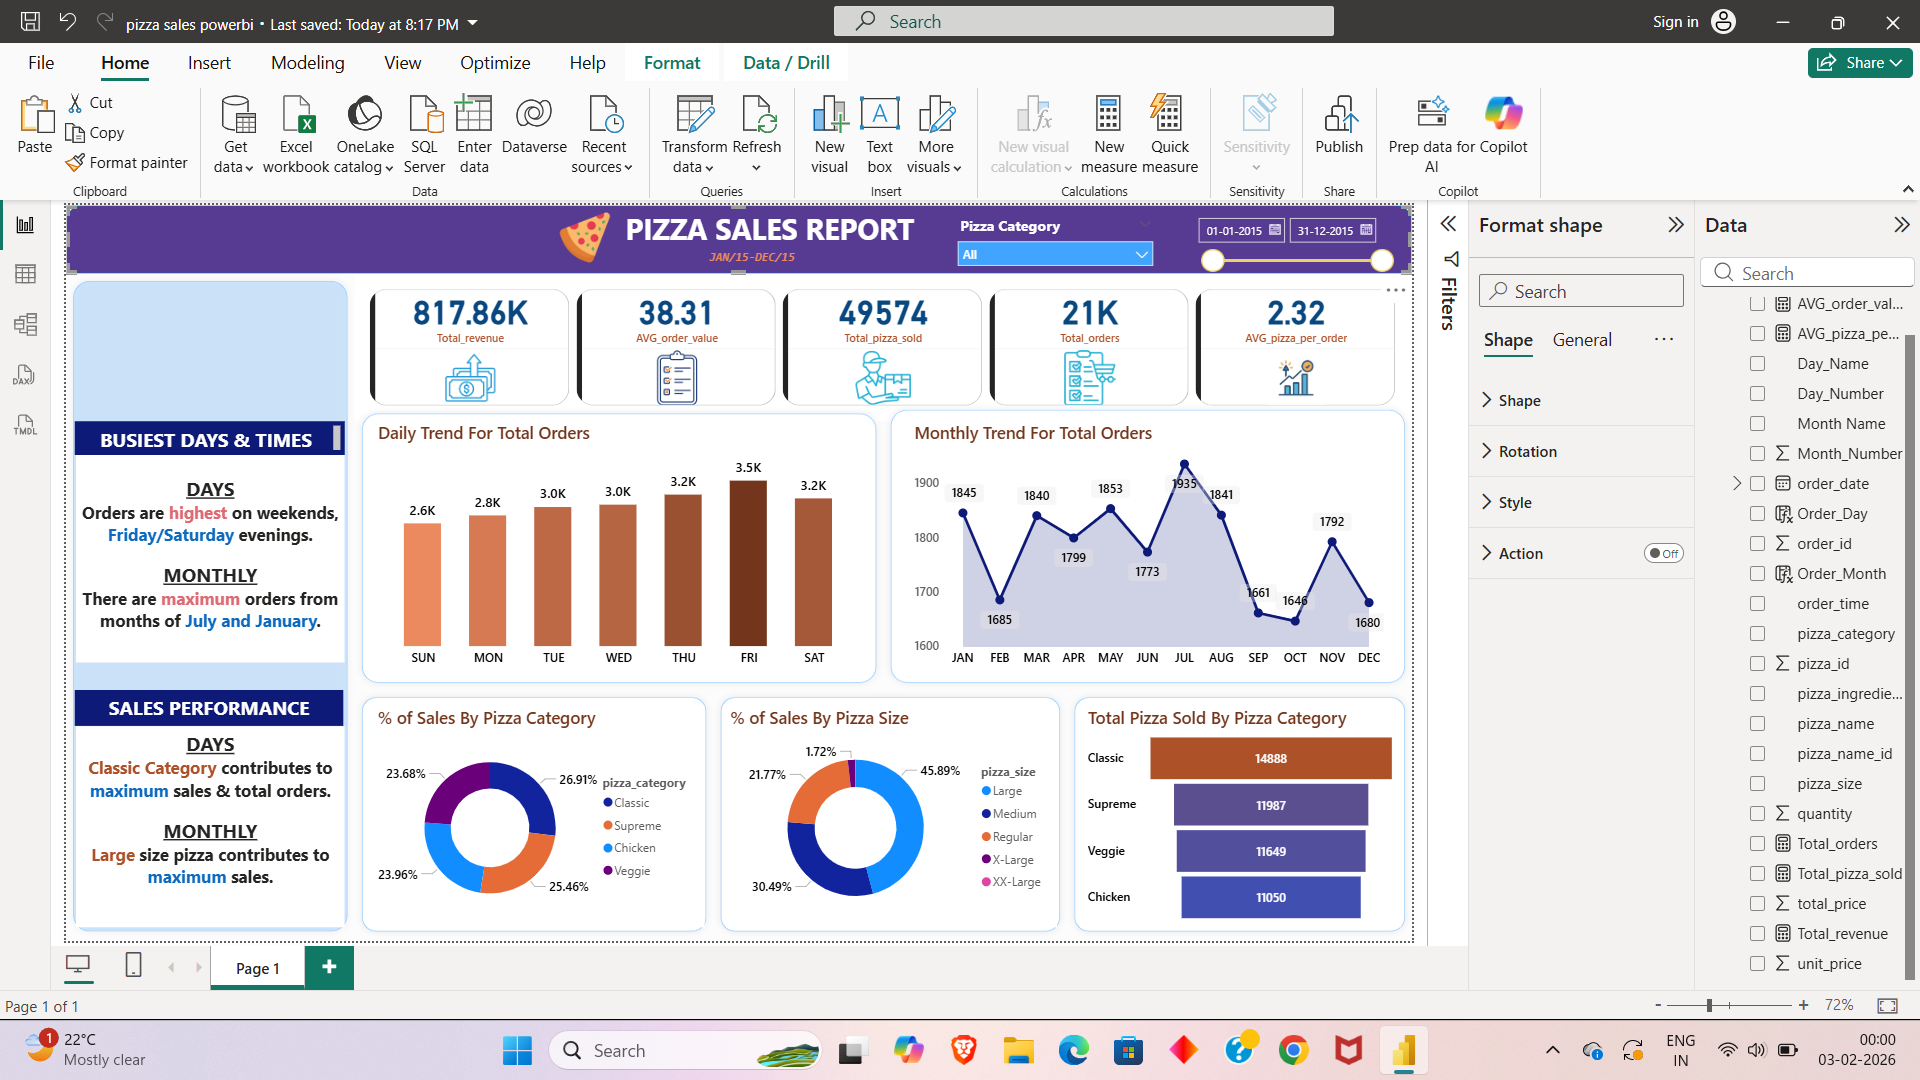

The dashboard page shown, as its layout file describes it:
{"tool":"powerbi","page":{"name":"Home","canvas":[1500,820],"ordinal":0},"visuals":[{"type":"shape","box":[0,76.6,321.7,740.9],"z":0},{"type":"cardVisual","fields":{"Data":["pizza_sales.Total_revenue","pizza_sales.AVG_order_value","pizza_sales.Total_pizza_sold","pizza_sales.Total_orders","pizza_sales.AVG_pizza_per_order"]},"box":[321.7,76.6,1178.2,164.3],"z":1000},{"type":"shape","box":[0,0,1499.9,76.6],"z":2000},{"type":"textbox","box":[306.4,0,955.4,111.4],"z":3000},{"type":"textbox","box":[711.7,43.2,110,43.2],"z":4000},{"type":"image","box":[504.1,7,147.6,58.5],"z":5000},{"type":"shape","box":[321.7,224.2,589.1,316.1],"z":6000},{"type":"clusteredColumnChart","title":"Daily Trend For Total Orders","fields":{"Y":["pizza_sales.Total_orders"],"Category":["pizza_sales.Order_Day"]},"box":[342.6,240.9,547.3,282.7],"z":7000},{"type":"shape","box":[910.8,220,589.1,320.3],"z":8000},{"type":"areaChart","title":"Monthly Trend For Total Orders","fields":{"Category":["pizza_sales.Order_Month"],"Y":["pizza_sales.Total_orders"]},"box":[940.1,240.9,533.4,282.7],"z":9000},{"type":"shape","box":[321.7,540.4,399.7,277.1],"z":10000},{"type":"shape","box":[721.4,540.4,394.1,277.1],"z":11000},{"type":"shape","box":[1115.5,540.4,384.4,277.1],"z":12000},{"type":"donutChart","title":"% of Sales By Pizza Category","fields":{"Category":["pizza_sales.pizza_category"],"Y":["pizza_sales.Total_revenue"]},"box":[342.6,558.5,369.1,246.5],"z":13000},{"type":"donutChart","title":"% of Sales By Pizza Size","fields":{"Category":["pizza_sales.pizza_size"],"Y":["pizza_sales.Total_revenue"]},"box":[735.3,558.5,369.1,246.5],"z":14000},{"type":"funnel","title":"Total Pizza Sold By Pizza Category","fields":{"Category":["pizza_sales.pizza_category"],"Y":["pizza_sales.Total_pizza_sold"]},"box":[1133.6,558.5,353.7,246.5],"z":15000},{"type":"textbox","box":[9.7,240.9,300.8,37.6],"z":16000},{"type":"textbox","box":[11.1,278.5,299.4,231.2],"z":17000},{"type":"textbox","box":[9.7,540.4,299.4,40.4],"z":18000},{"type":"textbox","box":[11.1,580.7,299.4,224.2],"z":19000},{"type":"slicer","fields":{"Values":["pizza_sales.pizza_category"]},"box":[983.2,7,238.1,69.6],"z":20000},{"type":"slicer","fields":{"Values":["pizza_sales.order_date"]},"box":[1249.2,4.2,238.1,72.4],"z":21000},{"type":"pageNavigator","box":[12.9,98.1,294.3,49.9],"z":22000},{"type":"pageNavigator","box":[8,159.2,300.7,49.9],"z":23000},{"type":"image","box":[228.3,99.7,114.2,48.2],"z":24000}]}

Visuals, with their boxes on the page's 1500x820 design canvas (x1, y1, x2, y2). These are canvas units, not pixel positions in the 1920x1080 screenshot, which may show the page scaled, cropped or inside an application window:
shape: bbox=[0, 77, 322, 818]
cardVisual - pizza_sales.Total_revenue x pizza_sales.AVG_order_value: bbox=[322, 77, 1500, 241]
shape: bbox=[0, 0, 1500, 77]
textbox: bbox=[306, 0, 1262, 111]
textbox: bbox=[712, 43, 822, 86]
image: bbox=[504, 7, 652, 66]
shape: bbox=[322, 224, 911, 540]
"Daily Trend For Total Orders" clusteredColumnChart: bbox=[343, 241, 890, 524]
shape: bbox=[911, 220, 1500, 540]
"Monthly Trend For Total Orders" areaChart: bbox=[940, 241, 1474, 524]
shape: bbox=[322, 540, 721, 818]
shape: bbox=[721, 540, 1116, 818]
shape: bbox=[1116, 540, 1500, 818]
"% of Sales By Pizza Category" donutChart: bbox=[343, 558, 712, 805]
"% of Sales By Pizza Size" donutChart: bbox=[735, 558, 1104, 805]
"Total Pizza Sold By Pizza Category" funnel: bbox=[1134, 558, 1487, 805]
textbox: bbox=[10, 241, 310, 278]
textbox: bbox=[11, 278, 310, 510]
textbox: bbox=[10, 540, 309, 581]
textbox: bbox=[11, 581, 310, 805]
slicer - pizza_sales.pizza_category: bbox=[983, 7, 1221, 77]
slicer - pizza_sales.order_date: bbox=[1249, 4, 1487, 77]
pageNavigator: bbox=[13, 98, 307, 148]
pageNavigator: bbox=[8, 159, 309, 209]
image: bbox=[228, 100, 342, 148]
